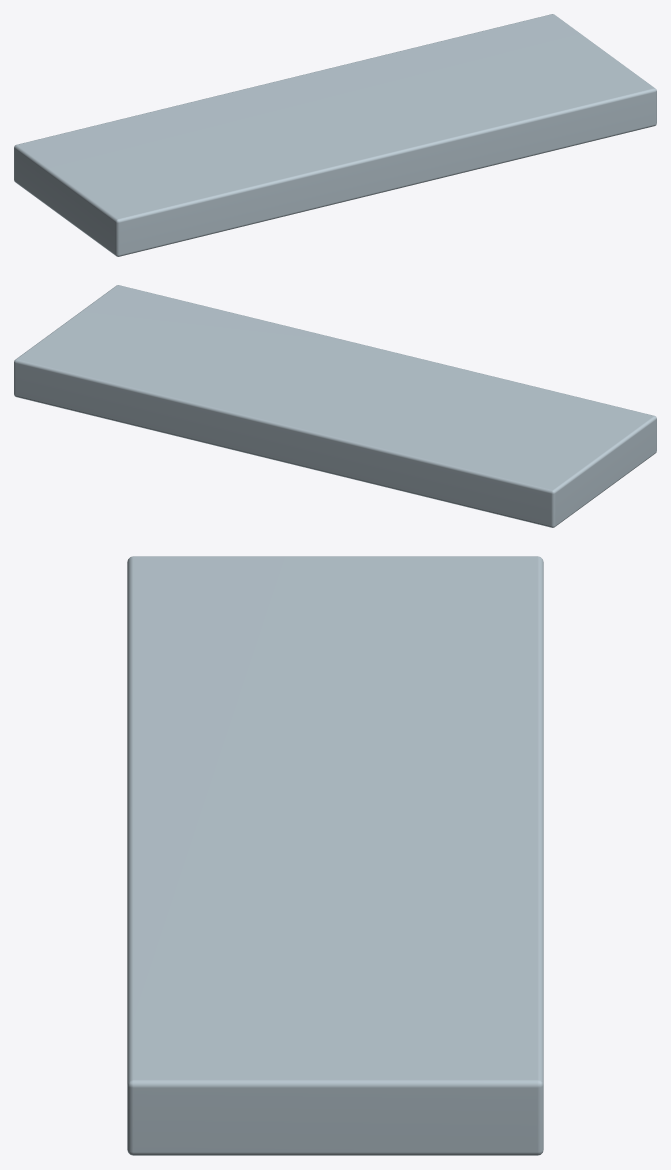
File: chassis-raw.glb
The picture shows the model from 3 angles, top to bottom: view 1: azimuth 30°, elevation 25°; view 2: azimuth 150°, elevation 25°; view 3: azimuth 270°, elevation 25°; orthographic projection. The views are drawn at different scales.
Parts seen in each view (by area): view 1: chassis_raw_Product_Metal; view 2: chassis_raw_Product_Metal; view 3: chassis_raw_Product_Metal.
Boxes of the visible parts, x1,y1,x2,y2 form: chassis_raw_Product_Metal: (14,14,656,256); chassis_raw_Product_Metal: (14,285,656,527); chassis_raw_Product_Metal: (127,556,543,1155).
Bounding box in the file's own units: 1.8 × 0.12 × 0.6.
